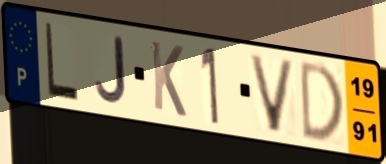1: (199, 45, 221, 127)
D: (298, 57, 345, 143)
J: (93, 35, 129, 107)
K: (148, 37, 189, 121)
L: (43, 19, 81, 104)
V: (246, 51, 298, 136)
